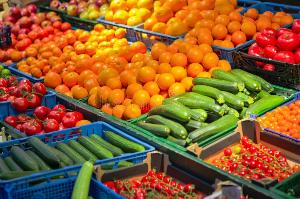apple: (0, 6, 70, 46)
cucumber: (1, 130, 132, 181)
orange: (81, 48, 220, 113), (178, 7, 294, 45), (27, 30, 126, 74), (108, 0, 218, 22)
tomato: (212, 131, 300, 193), (99, 170, 205, 199), (1, 98, 84, 134), (0, 78, 48, 112)
zucchini: (138, 76, 292, 142)
